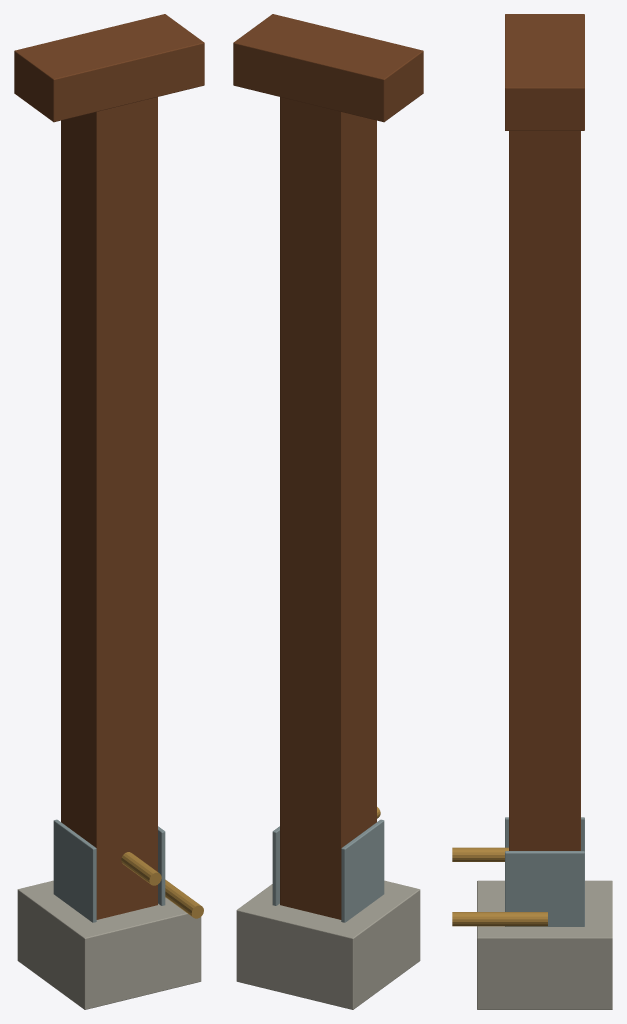
The model's file is source-edit.glb.
The picture shows the model from 3 angles, left to right: view 1: azimuth 30°, elevation 25°; view 2: azimuth 150°, elevation 25°; view 3: azimuth 270°, elevation 25°; orthographic projection.
Visible parts, largest first — view 1: Timber_Post, Footing, Saddle, Bracket.001, Bolt.001, Bolt, Bracket; view 2: Timber_Post, Footing, Saddle, Bracket.001, Bracket; view 3: Timber_Post, Footing, Saddle, Bracket, Bolt.001, Bolt.
Part boxes in pixels (left/top/right/bottom): Timber_Post: left=61, top=97, right=157, bottom=919; Footing: left=17, top=880, right=201, bottom=1009; Saddle: left=14, top=14, right=204, bottom=122; Bracket.001: left=53, top=819, right=96, bottom=922; Bolt.001: left=165, top=879, right=203, bottom=918; Bolt: left=121, top=852, right=161, bottom=885; Bracket: left=158, top=826, right=165, bottom=905; Timber_Post: left=280, top=97, right=376, bottom=919; Footing: left=236, top=880, right=420, bottom=1009; Saddle: left=233, top=14, right=423, bottom=122; Bracket.001: left=341, top=819, right=384, bottom=922; Bracket: left=272, top=826, right=279, bottom=905; Timber_Post: left=509, top=131, right=580, bottom=850; Footing: left=477, top=880, right=612, bottom=1009; Saddle: left=505, top=14, right=584, bottom=130; Bracket: left=505, top=851, right=584, bottom=926; Bolt.001: left=452, top=912, right=547, bottom=926; Bolt: left=452, top=847, right=508, bottom=861.
Size of the model in its own units: 0.44 by 2.57 by 0.402.
